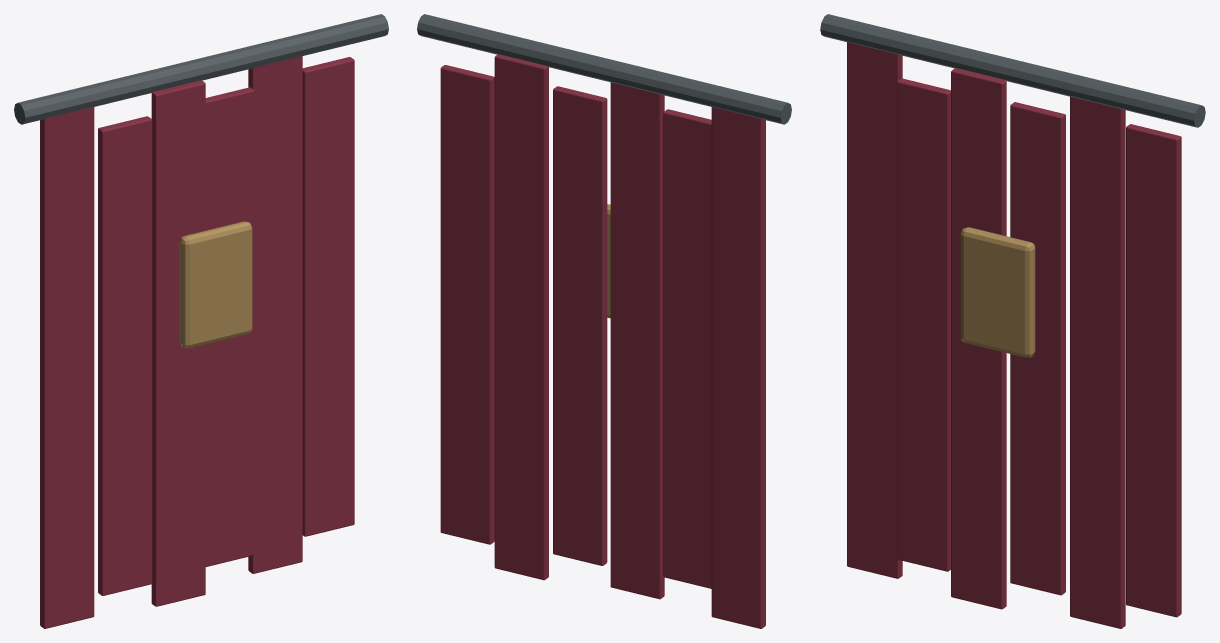
Rendered from castle_banner.glb.
The picture shows the model from 3 angles, left to right: view 1: azimuth 30°, elevation 25°; view 2: azimuth 150°, elevation 25°; view 3: azimuth 330°, elevation 25°; orthographic projection. The views are drawn at different scales.
Parts seen in each view (by area): view 1: Body.093; view 2: Body.093; view 3: Body.093.
Part boxes in pixels (x1,y1,x2,y2): Body.093: (14, 14, 388, 628); Body.093: (417, 14, 791, 628); Body.093: (820, 14, 1205, 628).
Size of the model in its own units: 1.3 by 1.81 by 0.1611.
